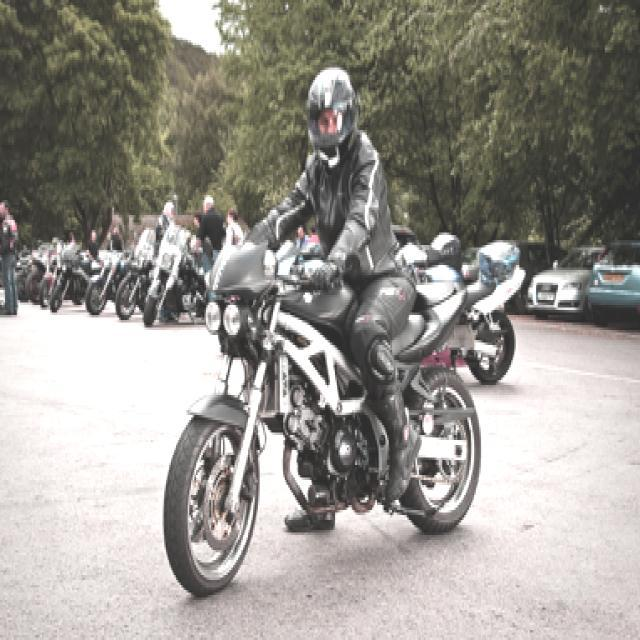Helmet: (302, 62, 358, 168)
